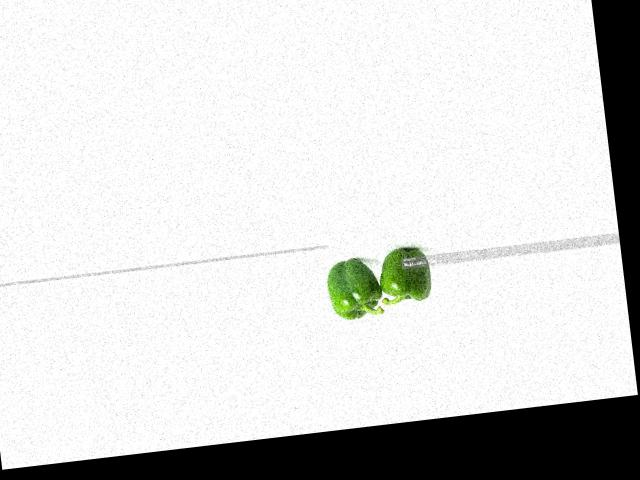bell_pepper: (323, 247, 384, 326)
